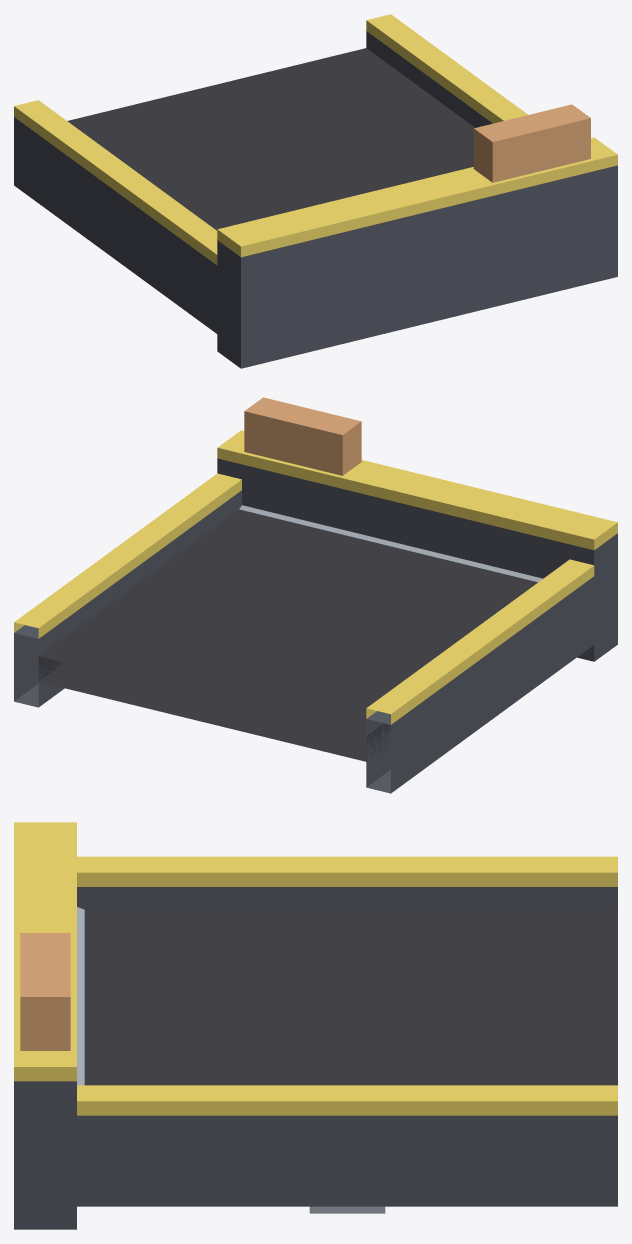
Rendered from esteira_inicio.glb.
3 renders of one model, top to bottom at view 1: azimuth 30°, elevation 25°; view 2: azimuth 150°, elevation 25°; view 3: azimuth 270°, elevation 25°, orthographic. The views are drawn at different scales.
Parts seen in each view (by area): view 1: esteira_inicio; view 2: esteira_inicio; view 3: esteira_inicio.
Boxes of the visible parts, x1,y1,x2,y2 form: esteira_inicio: (14,14,617,368); esteira_inicio: (14,397,617,793); esteira_inicio: (14,822,617,1229).
Size of the model in its own units: 0.92 by 0.38 by 0.96.
